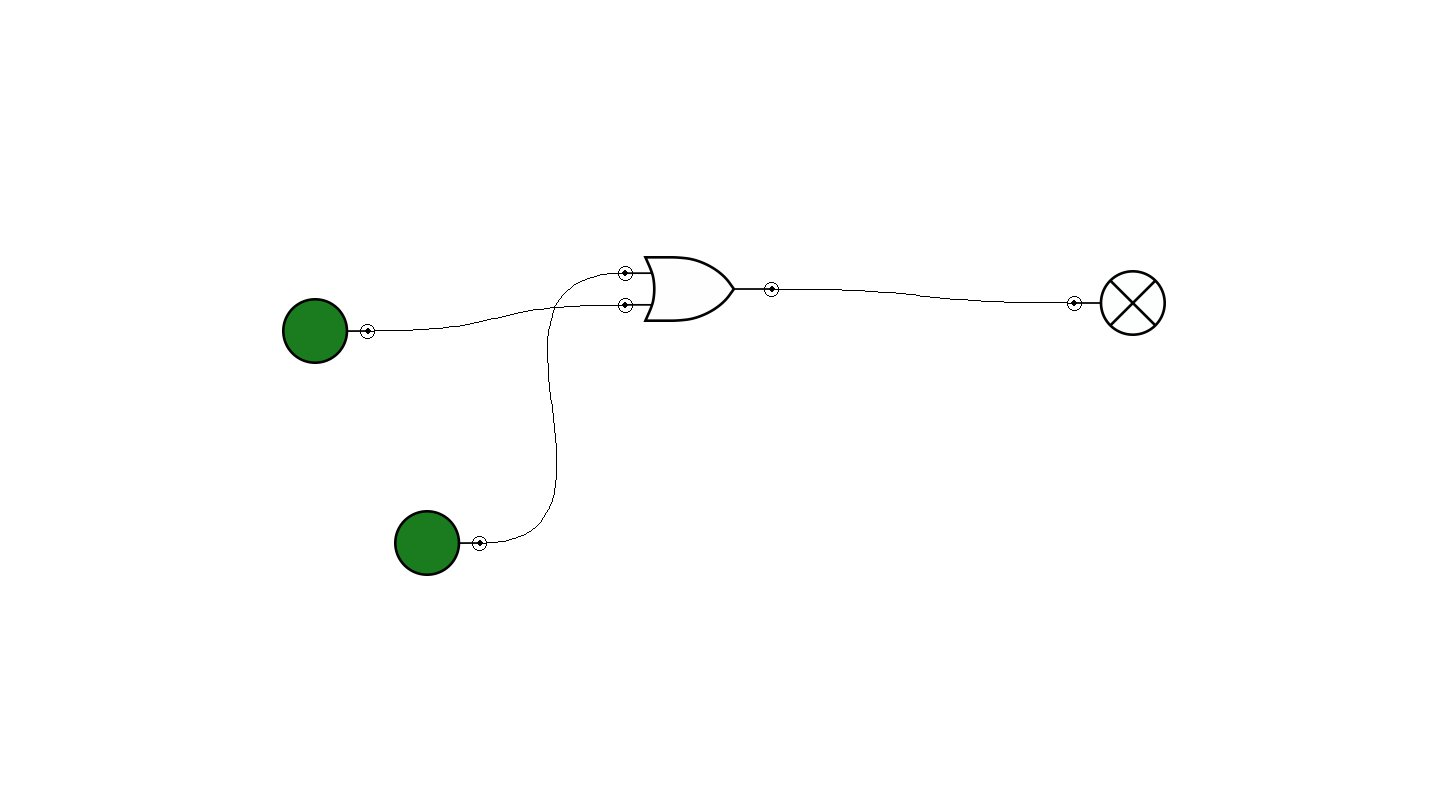bulb: (1067, 270, 1166, 336)
or: (618, 256, 779, 322)
switch_True: (394, 510, 487, 576), (282, 298, 375, 364)
